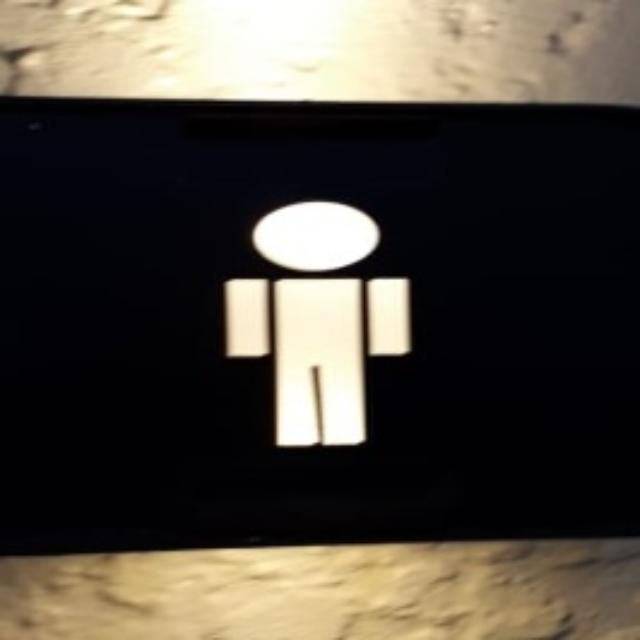wc nam: (2, 99, 638, 551)
